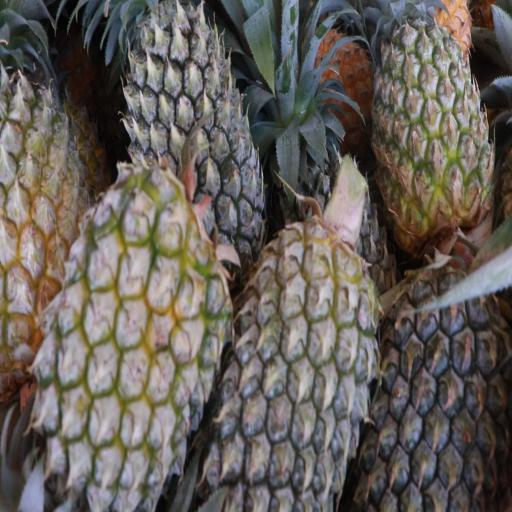------------------------------: (36, 183, 222, 512), (0, 0, 94, 374), (371, 0, 492, 230)
